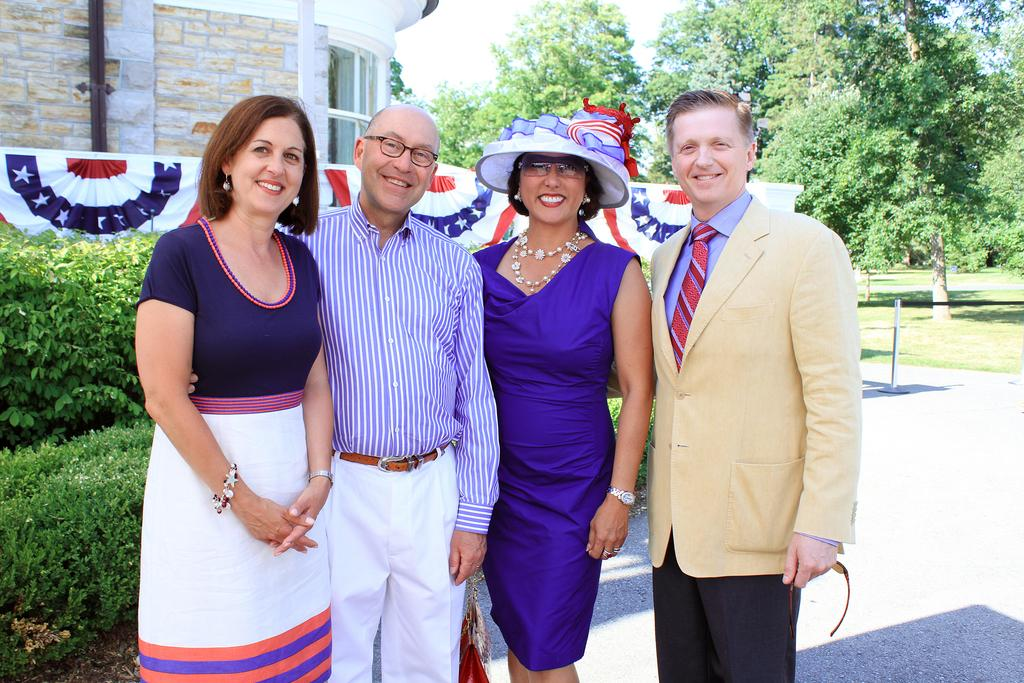Hat: (476, 98, 640, 212)
